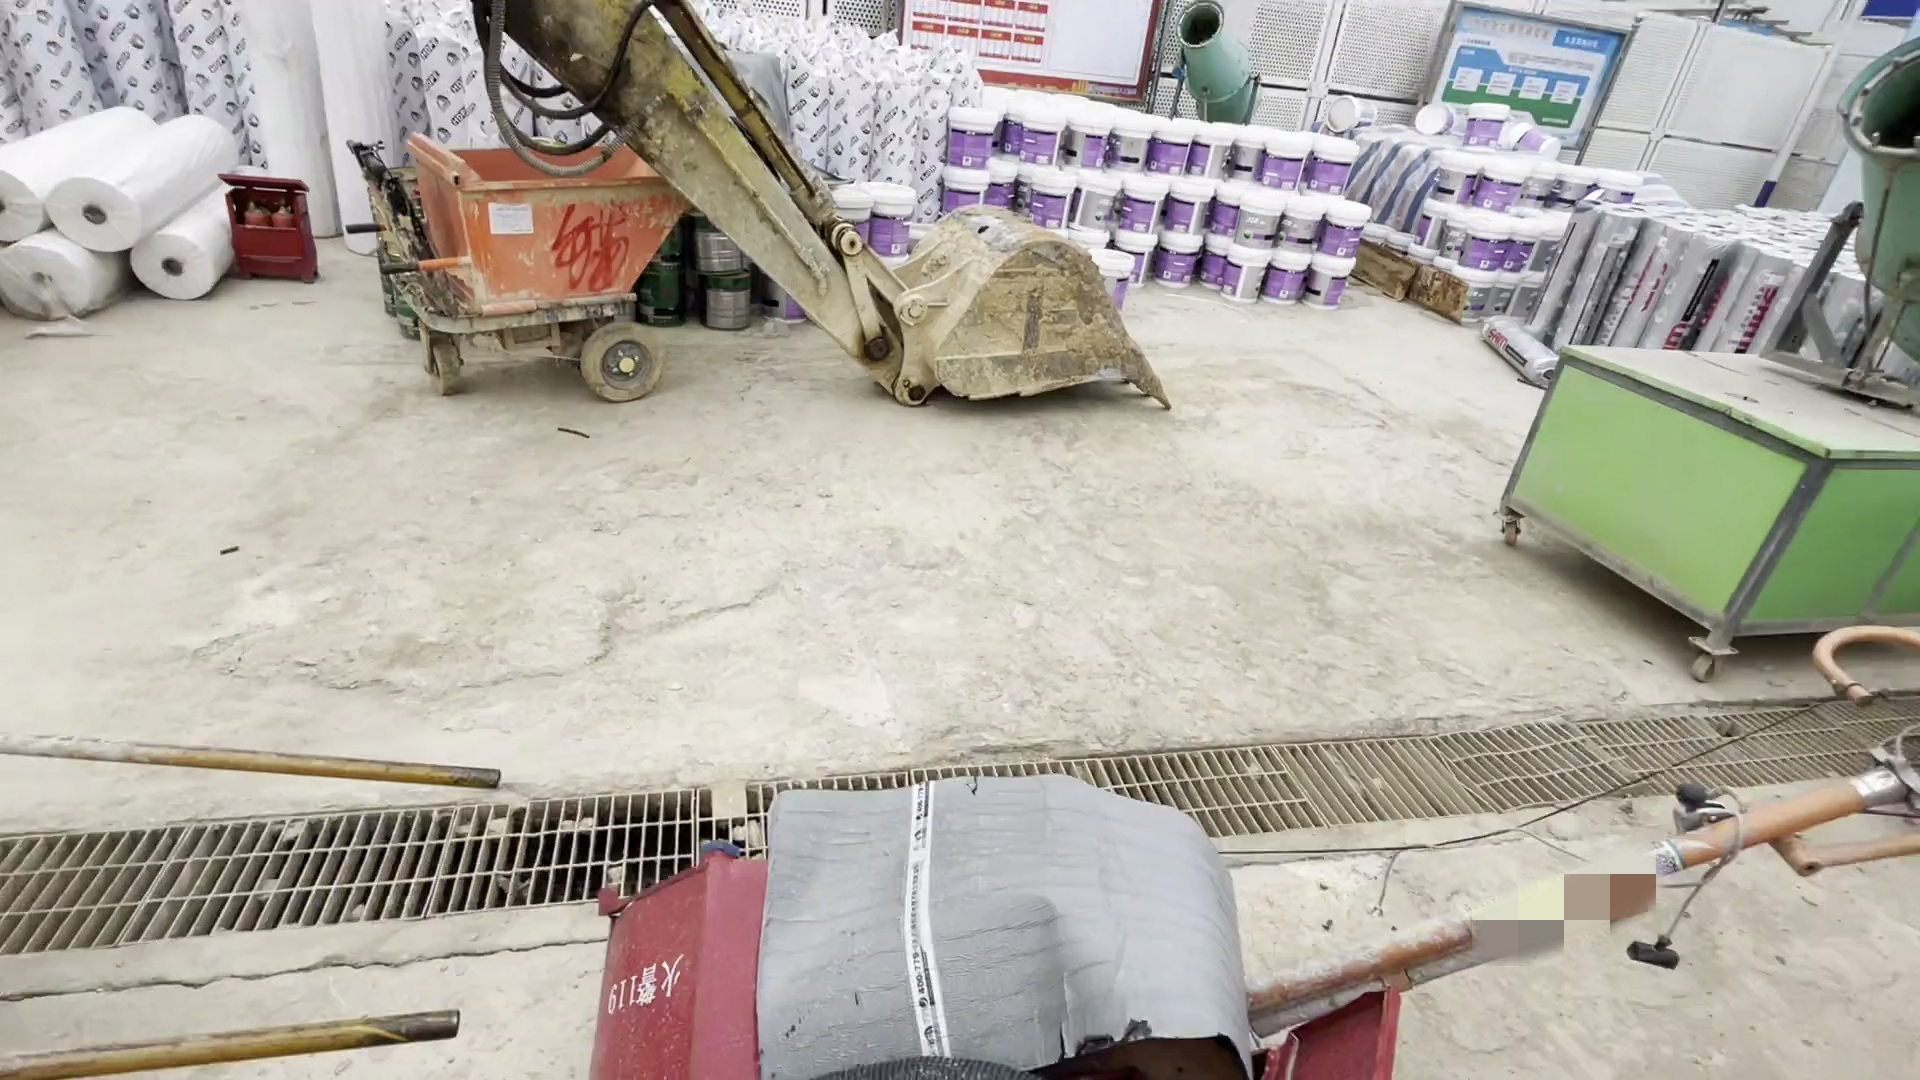hopper: (365, 123, 704, 409)
